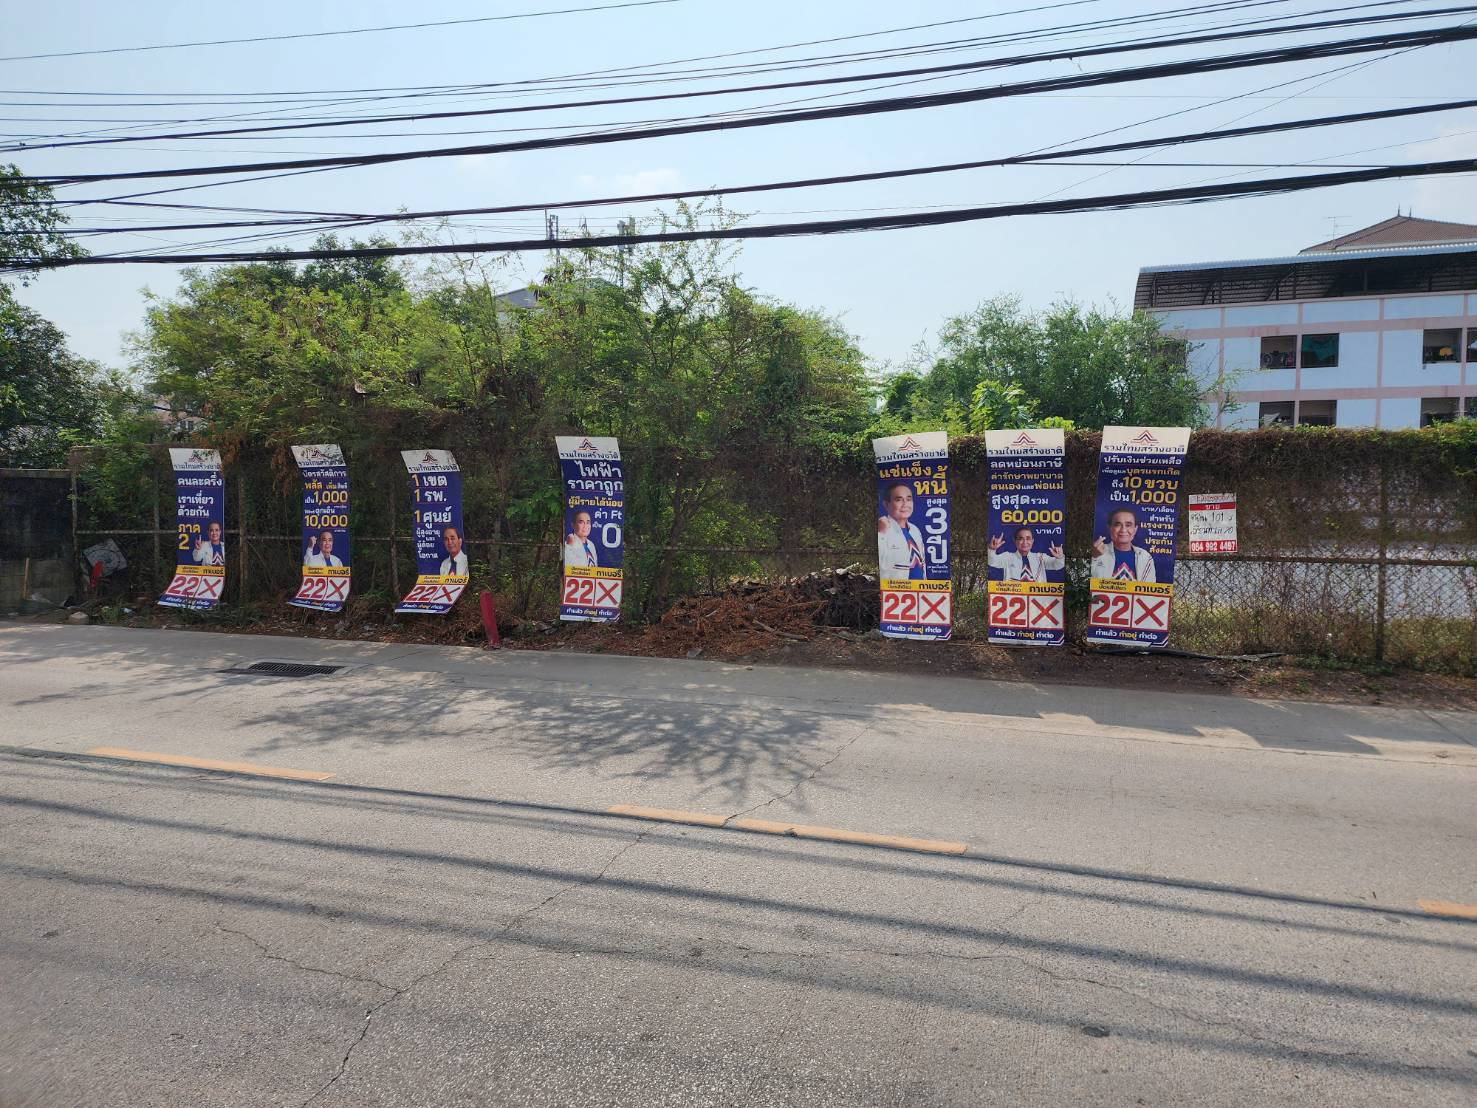Banner: (1092, 416, 1192, 640), (862, 424, 961, 651), (984, 420, 1070, 647), (552, 416, 635, 633), (281, 425, 365, 634), (156, 433, 237, 627), (397, 440, 471, 640)
